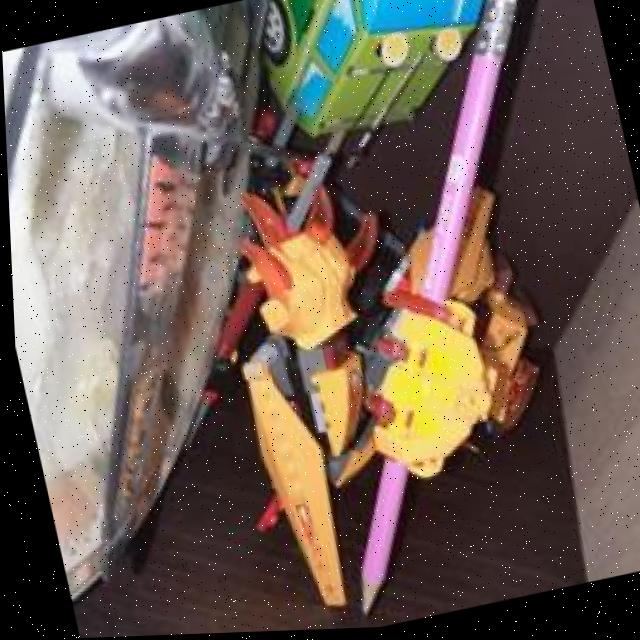pencil: (336, 0, 530, 624)
